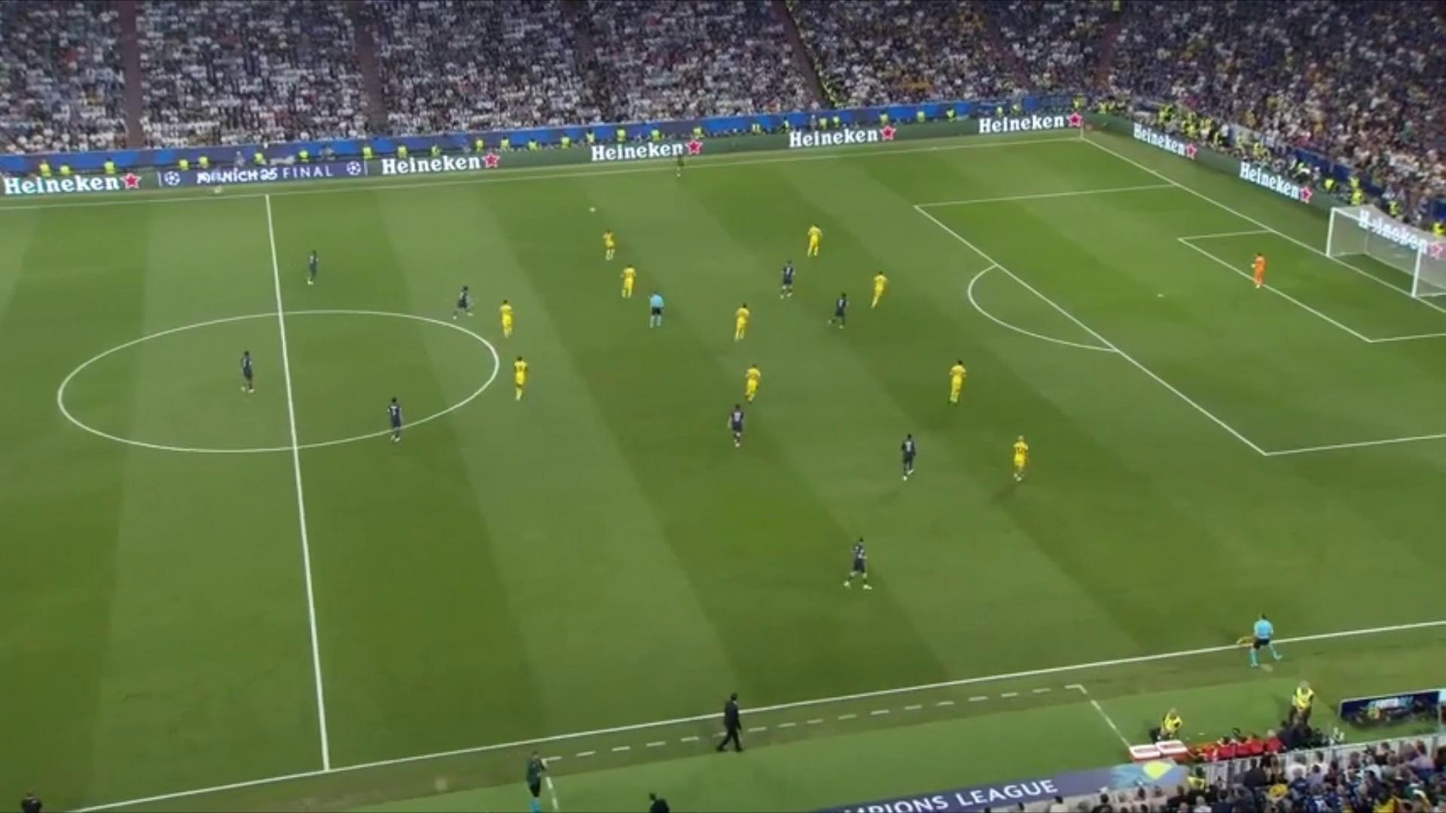ball: (587, 207, 600, 217)
player_A: (841, 534, 877, 591), (724, 401, 748, 452), (899, 431, 921, 484), (450, 283, 479, 323), (385, 394, 407, 446), (237, 351, 259, 395), (829, 290, 851, 330), (777, 255, 797, 298), (304, 248, 321, 289), (672, 150, 690, 179)
player_B: (946, 357, 970, 411), (1009, 431, 1031, 486), (511, 354, 535, 401), (741, 362, 763, 405), (732, 302, 754, 343), (870, 268, 890, 312), (498, 298, 517, 340), (803, 222, 822, 258), (620, 263, 637, 301), (601, 226, 617, 263)
player_B_goal_keeper: (1247, 249, 1270, 291)
referee: (1235, 606, 1282, 670), (647, 289, 665, 329)
